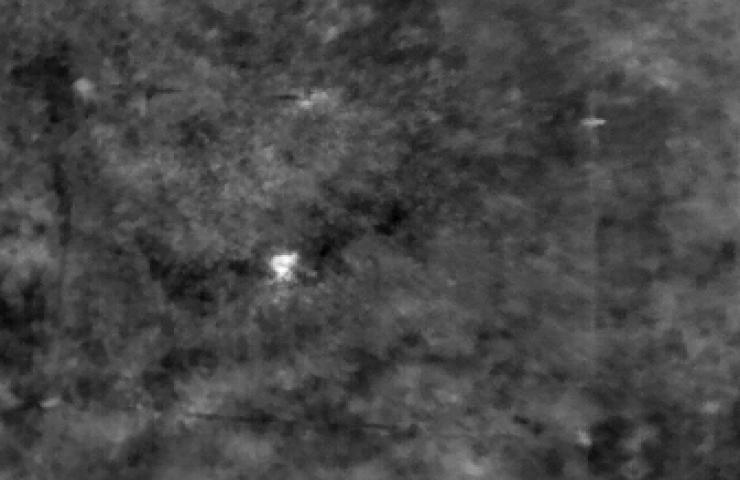landmines: (269, 251, 304, 284)
